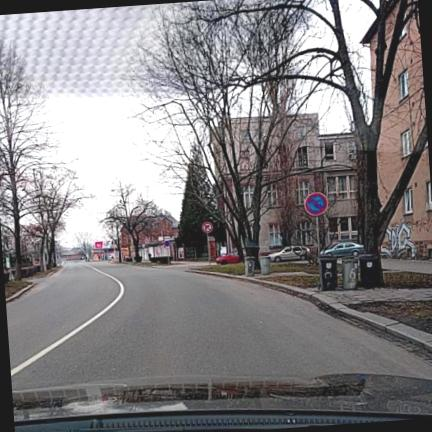Road: (6, 263, 431, 389)
